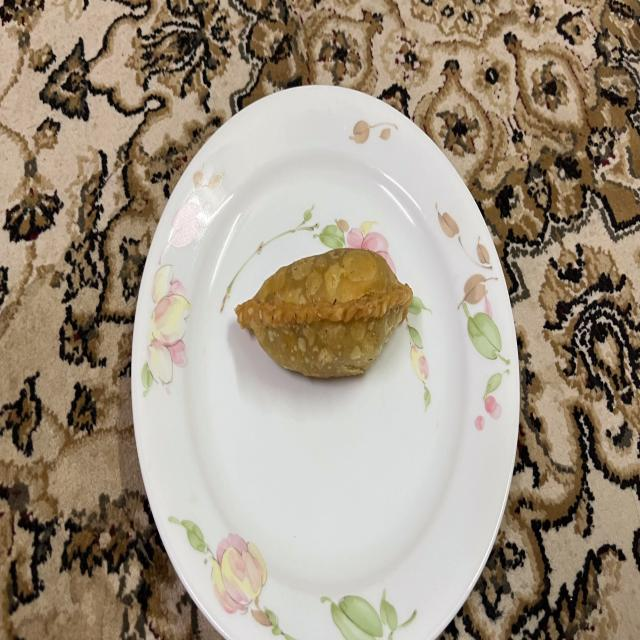karipap: (236, 247, 412, 378)
